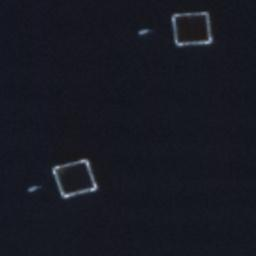square_solid: (49, 155, 101, 202), (169, 8, 216, 50)
